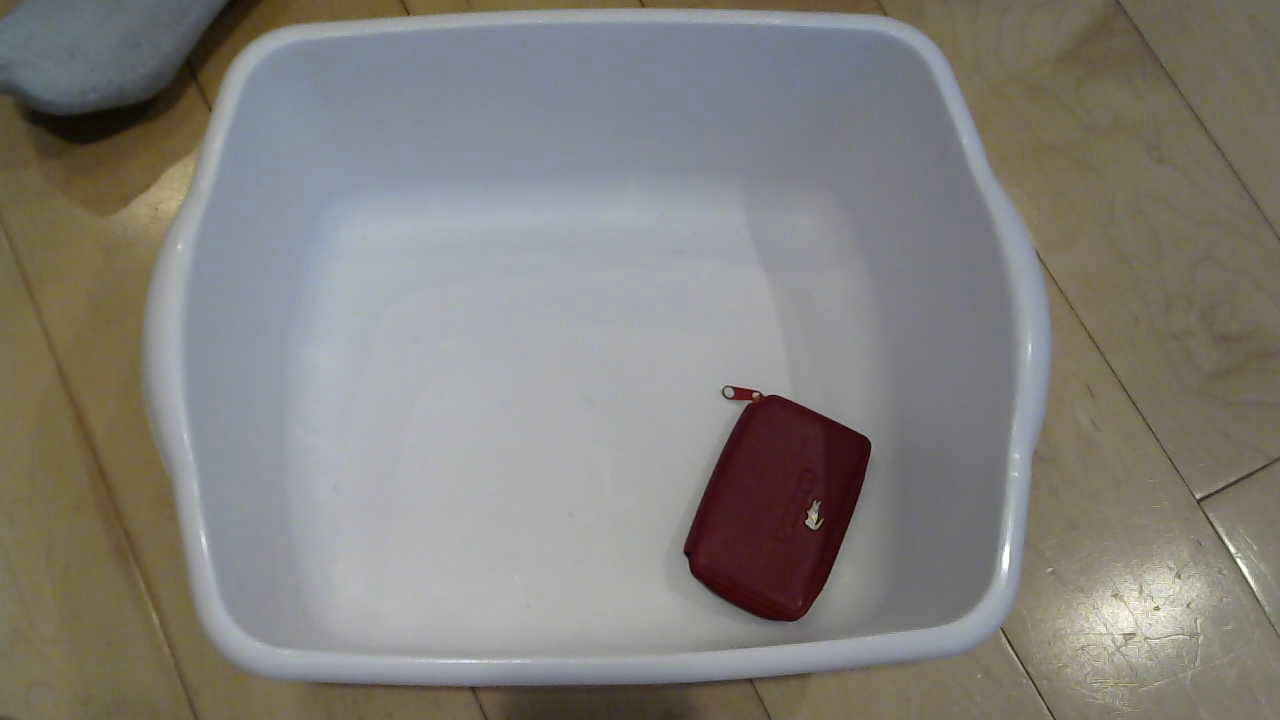wallet: (656, 389, 892, 629)
